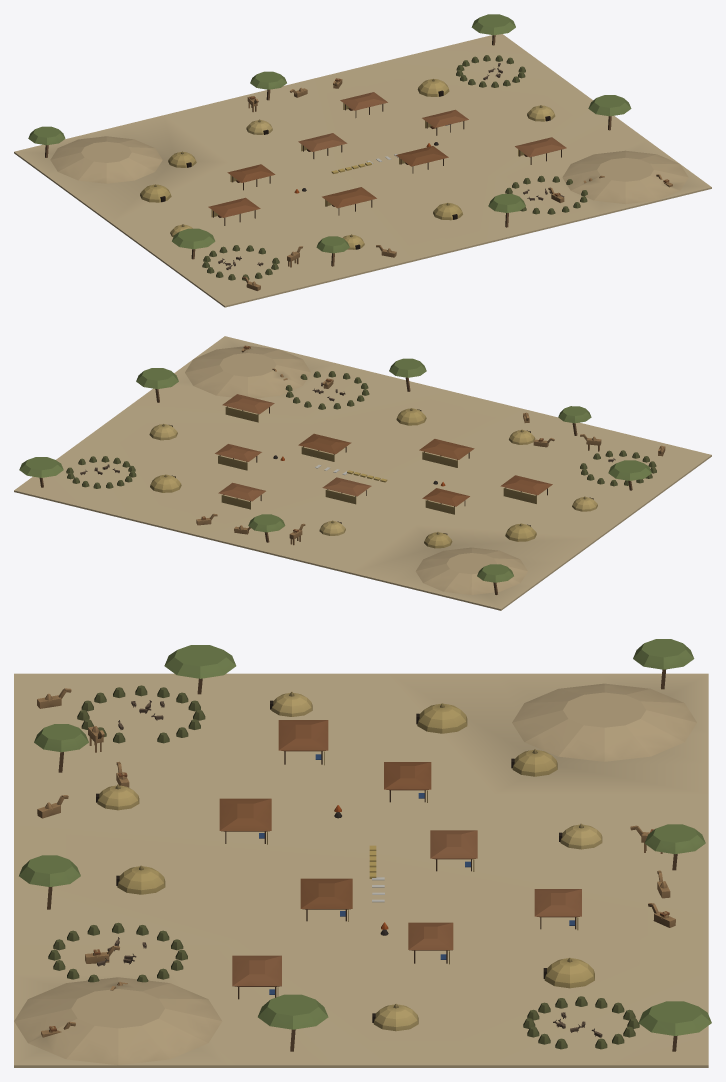
File: tuareg-camp.glb
3 renders of one model, top to bottom at view 1: azimuth 30°, elevation 25°; view 2: azimuth 150°, elevation 25°; view 3: azimuth 270°, elevation 25°, orthographic. The views are drawn at different scales.
Visible parts, largest first — view 1: p0_ground, p2_herds, p1_tents; view 2: p0_ground, p1_tents, p2_herds; view 3: p0_ground, p1_tents, p2_herds.
Part boxes in pixels (x1,y1,x2,y2): p0_ground: (14,34,711,307); p2_herds: (28,14,672,290); p1_tents: (140,78,566,249); p0_ground: (14,336,711,610); p1_tents: (149,394,597,548); p2_herds: (19,345,665,594); p0_ground: (14,673,708,1067); p1_tents: (96,691,602,1031); p2_herds: (19,639,711,1051).
Bounding box in the file's own units: 80.37 × 4.7 × 60.27.
